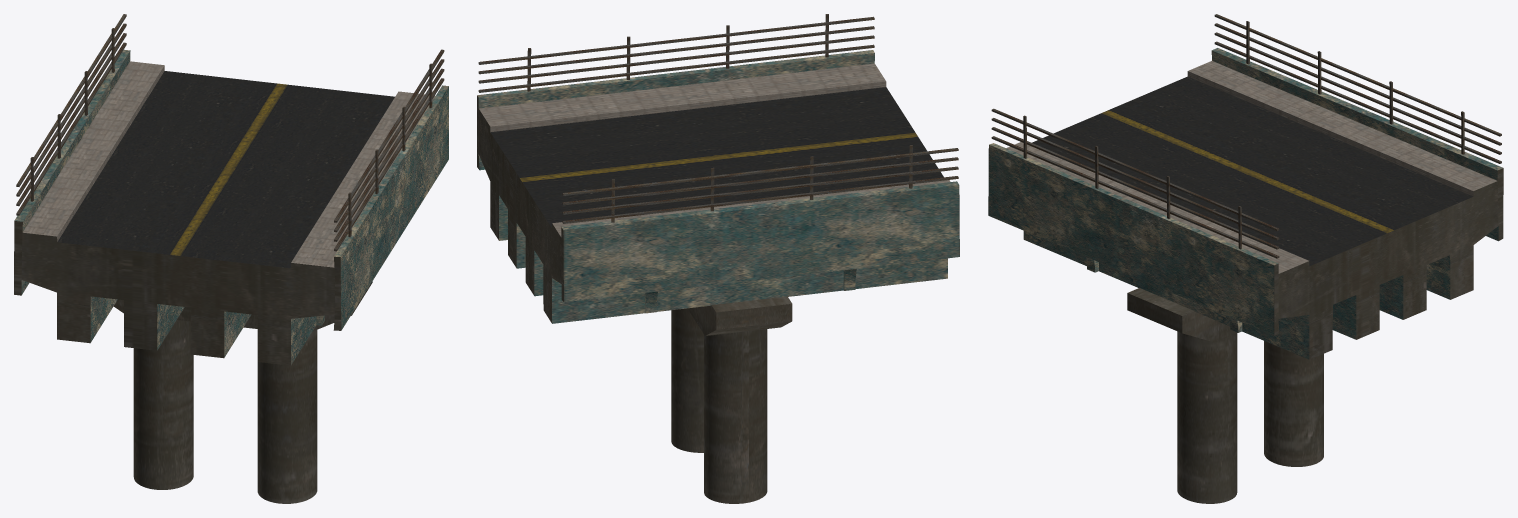
Rendered from original.glb.
The picture shows the model from 3 angles, left to right: view 1: azimuth 30°, elevation 25°; view 2: azimuth 150°, elevation 25°; view 3: azimuth 270°, elevation 25°; orthographic projection. The views are drawn at different scales.
Parts seen in each view (by area): view 1: Cube.001, Cylinder.001, Cube.021, Cube.013; view 2: Cube.001, Cylinder.001, Cube.021, Cube.013; view 3: Cube.001, Cylinder.001, Cube.013, Cube.021.
Part boxes in pixels (x1,y1,x2,y2): Cube.001: (14,49,448,365); Cylinder.001: (113,281,372,503); Cube.021: (334,49,444,251); Cube.013: (16,14,126,215); Cube.001: (477,50,959,323); Cylinder.001: (671,296,792,503); Cube.021: (478,14,874,92); Cube.013: (562,145,958,223); Cube.001: (988,48,1503,359); Cylinder.001: (1127,288,1323,503); Cube.013: (1214,14,1501,163); Cube.021: (991,108,1279,258).
Size of the model in its own units: 5098 by 3927 by 5097.
Materials: 5 (5 with a texture image).
